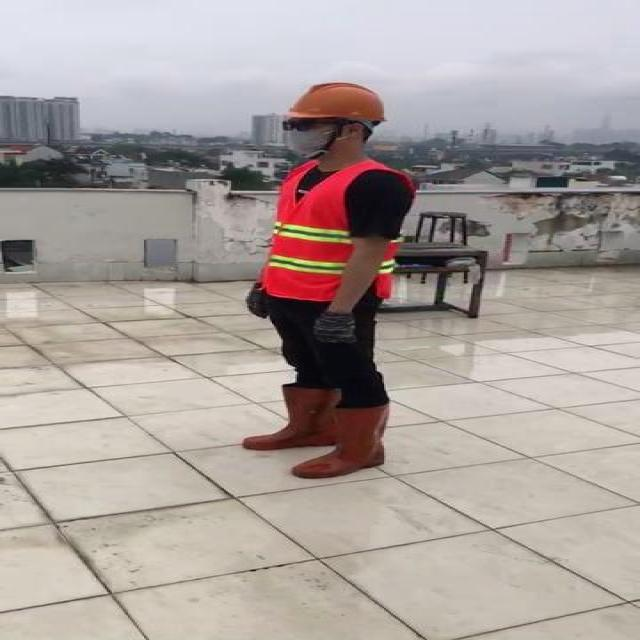boots: (290, 402, 394, 479), (240, 381, 336, 451)
face_mask: (284, 116, 335, 154)
glasses: (278, 118, 324, 134)
hand_glove: (304, 312, 361, 348)
head_helmet: (285, 81, 391, 123)
person: (225, 77, 424, 484)
vest: (260, 158, 416, 301)
